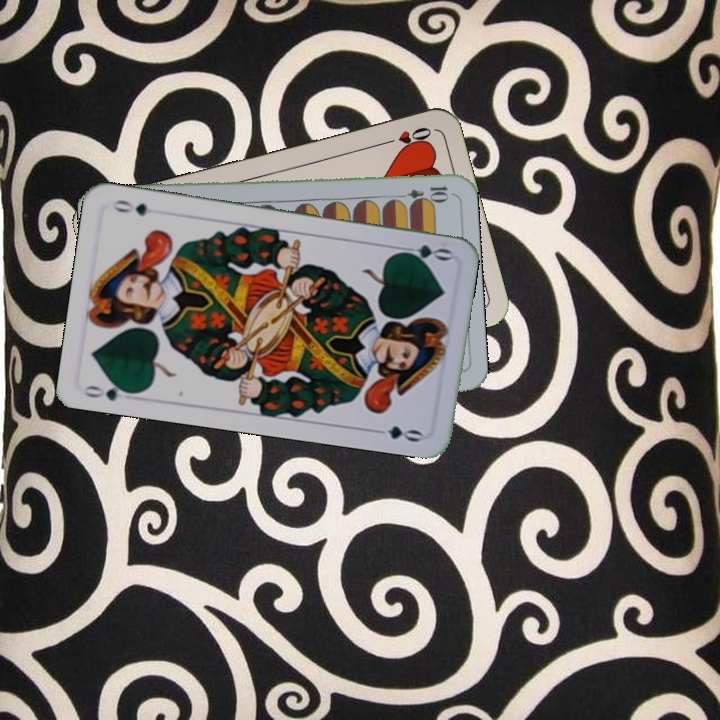E10: (392, 182, 451, 203)
GO: (80, 377, 140, 404), (393, 240, 453, 264)
HO: (377, 123, 435, 148)
